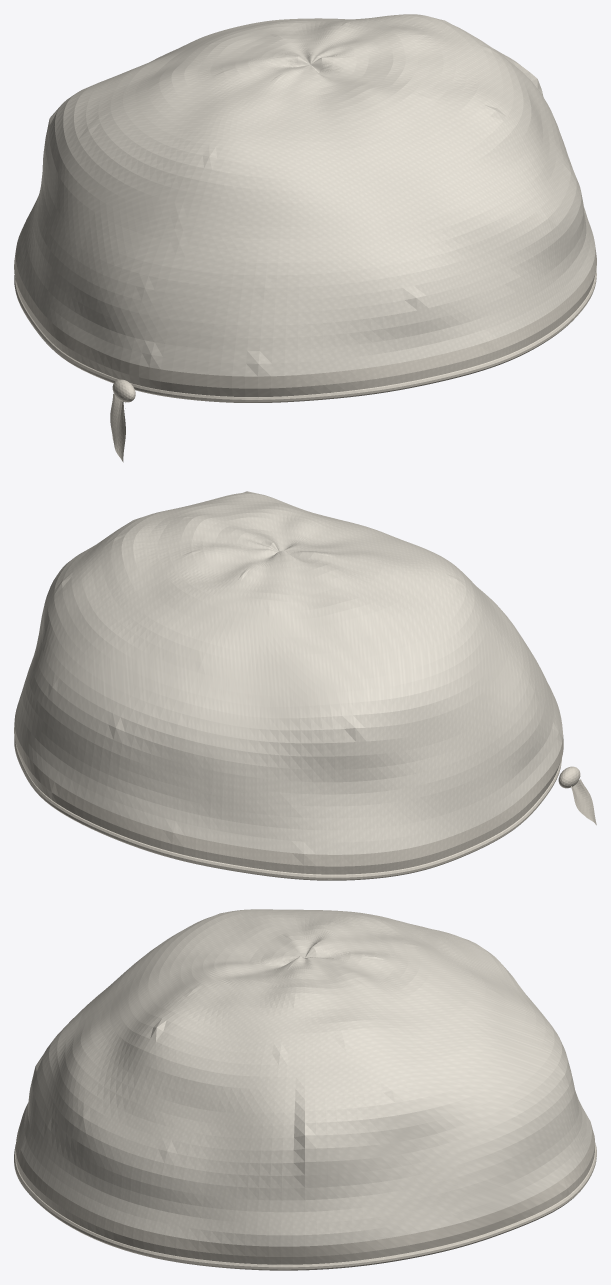
Rendered from side_iuchifarmer_headcloth.glb.
The picture shows the model from 3 angles, top to bottom: view 1: azimuth 30°, elevation 25°; view 2: azimuth 150°, elevation 25°; view 3: azimuth 270°, elevation 25°; orthographic projection. The views are drawn at different scales.
Visible parts, largest first — view 1: flax_linen, folded_flax; view 2: flax_linen, folded_flax; view 3: flax_linen, folded_flax.
Part boxes in pixels (x1,y1,x2,y2): flax_linen: [15, 14, 595, 376]; folded_flax: [14, 247, 596, 462]; flax_linen: [14, 491, 562, 854]; folded_flax: [14, 722, 596, 880]; flax_linen: [19, 909, 591, 1246]; folded_flax: [14, 1120, 596, 1270].
Bounding box in the file's own units: 17.15 × 9.36 × 17.3.
3 materials, 3 textured.
